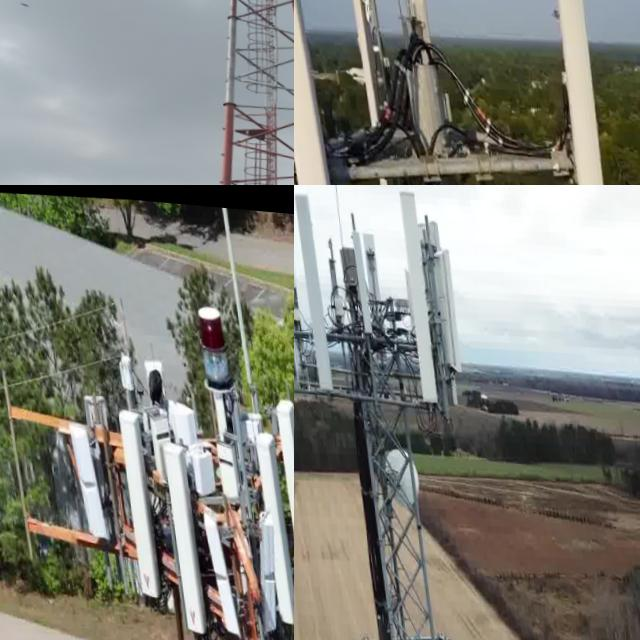GSM Antenna: (106, 393, 160, 599), (153, 429, 204, 637), (341, 0, 395, 185), (245, 416, 294, 619), (391, 185, 437, 396), (552, 0, 602, 185), (294, 185, 330, 389), (62, 408, 106, 543), (268, 382, 294, 590), (427, 234, 463, 371), (197, 506, 236, 629), (344, 220, 370, 334), (399, 0, 429, 42)
Microwave Antenna: (371, 437, 415, 511), (294, 208, 305, 357)
